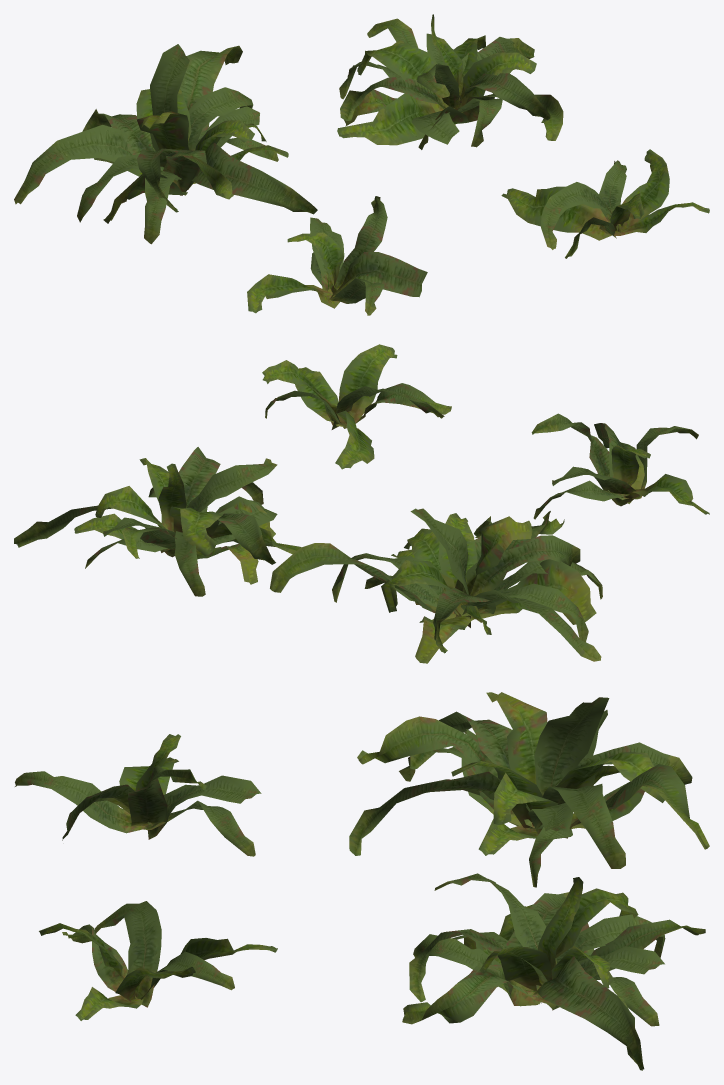
Rendered from fern_02.glb.
3 views of the same model, one above another, from view 1: azimuth 30°, elevation 25°; view 2: azimuth 150°, elevation 25°; view 3: azimuth 270°, elevation 25° (orthographic). The views are drawn at different scales.
Visible parts, largest first — view 1: fern_02_b, fern_02_c, fern_02_d, fern_02_a; view 2: fern_02_b, fern_02_c, fern_02_d, fern_02_a; view 3: fern_02_b, fern_02_c, fern_02_a, fern_02_d.
Boxes of the visible parts, <box> form: fern_02_b: <box>14,44,317,244</box>; fern_02_c: <box>337,14,563,149</box>; fern_02_d: <box>501,149,709,258</box>; fern_02_a: <box>247,196,427,315</box>; fern_02_b: <box>270,508,602,663</box>; fern_02_c: <box>14,447,301,596</box>; fern_02_d: <box>262,344,451,469</box>; fern_02_a: <box>531,413,709,519</box>; fern_02_b: <box>349,692,709,887</box>; fern_02_c: <box>402,873,705,1070</box>; fern_02_a: <box>15,734,261,856</box>; fern_02_d: <box>39,901,277,1020</box>.
Size of the model in its own units: 1.97 by 0.4277 by 1.72.
Materials: 1 (1 with a texture image).
